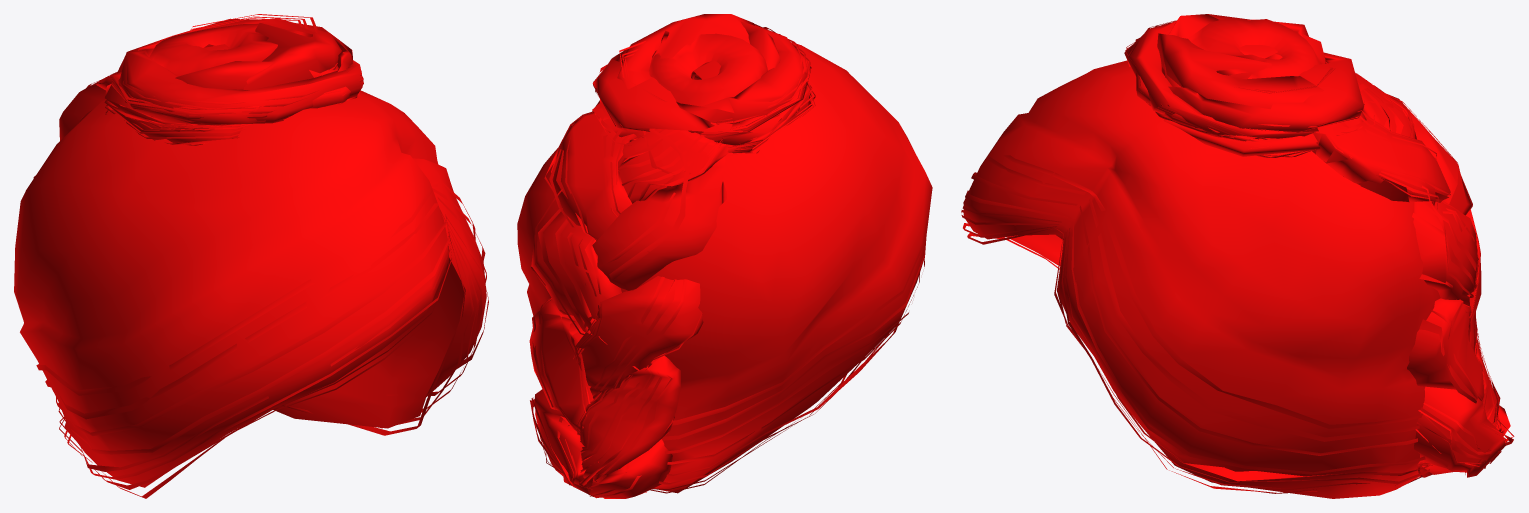
The model's file is elvs_reverse_french_braid_bun_M.glb.
3 views of the same model, side by side, from view 1: azimuth 30°, elevation 25°; view 2: azimuth 150°, elevation 25°; view 3: azimuth 270°, elevation 25° (orthographic). The views are drawn at different scales.
Size of the model in its own units: 0.2177 by 0.2475 by 0.2868.
Materials: 1 (1 with a texture image).
